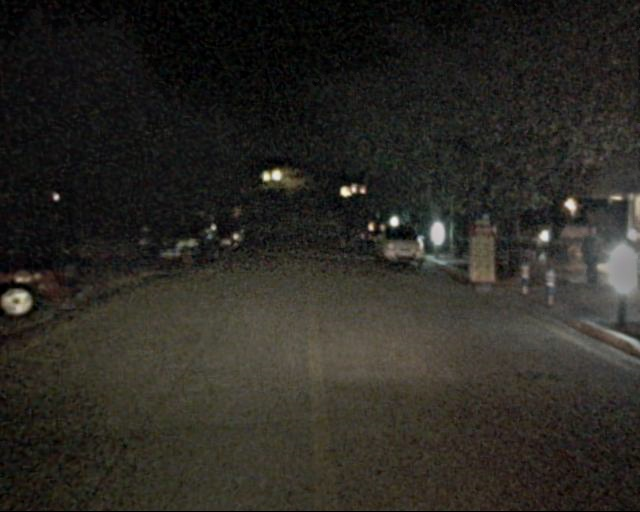person: (575, 224, 604, 294), (615, 227, 640, 294)
